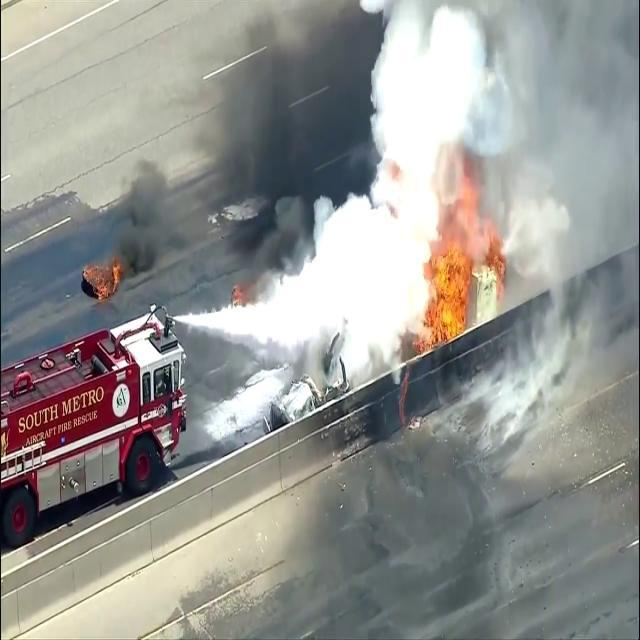Fire: (420, 228, 486, 344)
Smoke: (77, 2, 393, 300), (316, 0, 632, 256)
